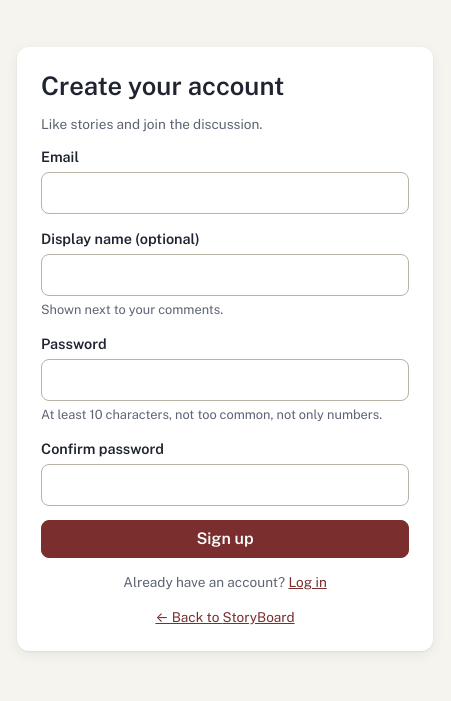
Test: RegisterPage › shows a general error when the server gives no field errors
The width and height of the screenshot is (451, 701).
Type "new@example.com" into the field labelled "Email" at (225, 193), box x1=41 y1=172 x2=409 y2=214
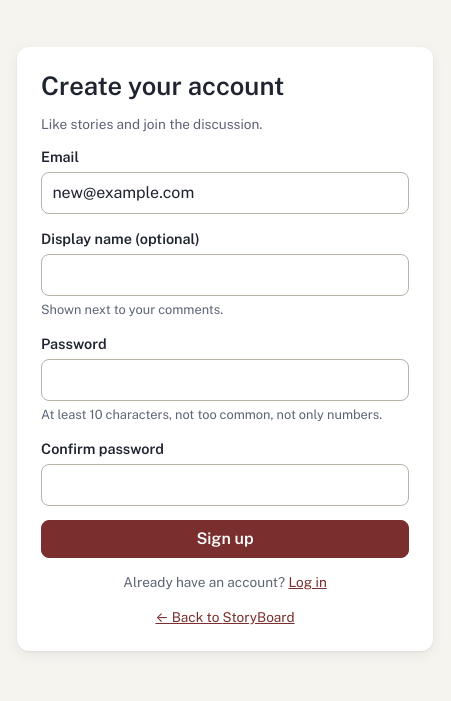
Type "Correct-horse-battery-9" into the password field labelled "Password" at (225, 380), box x1=41 y1=359 x2=409 y2=401
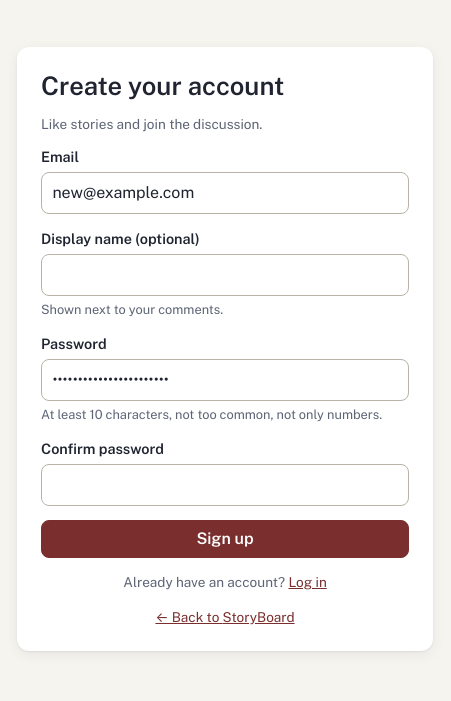
Type "Correct-horse-battery-9" into the password field labelled "Confirm password" at (225, 485), box x1=41 y1=464 x2=409 y2=506
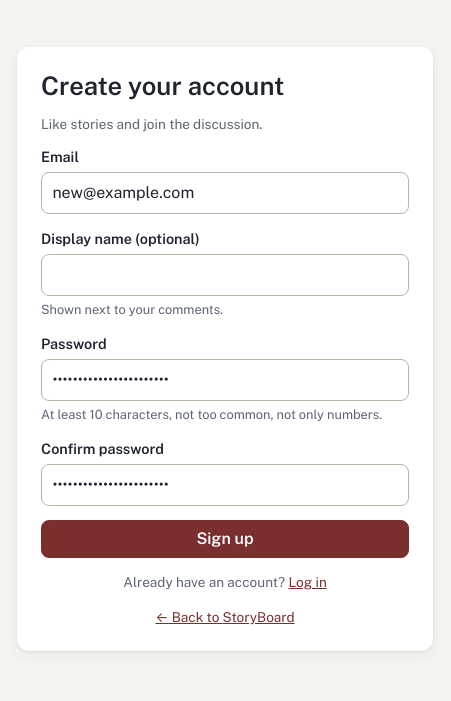
Click the button "Sign up" at (225, 539), box x1=41 y1=520 x2=409 y2=558
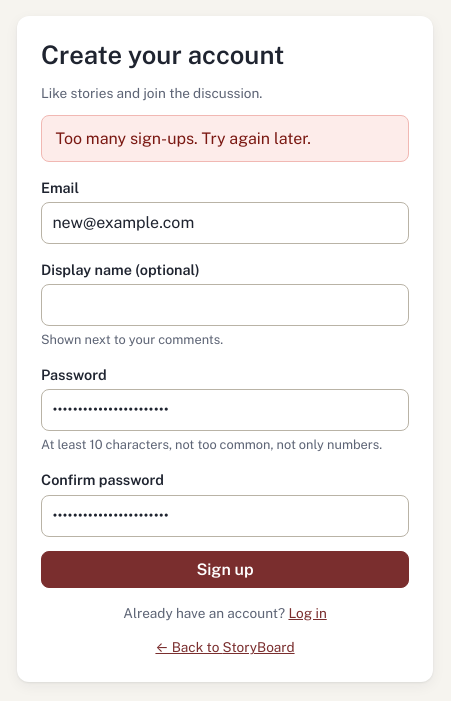
Expected: the message reads "Too many sign-ups. Try again later.", x1=56 y1=129 x2=311 y2=148
